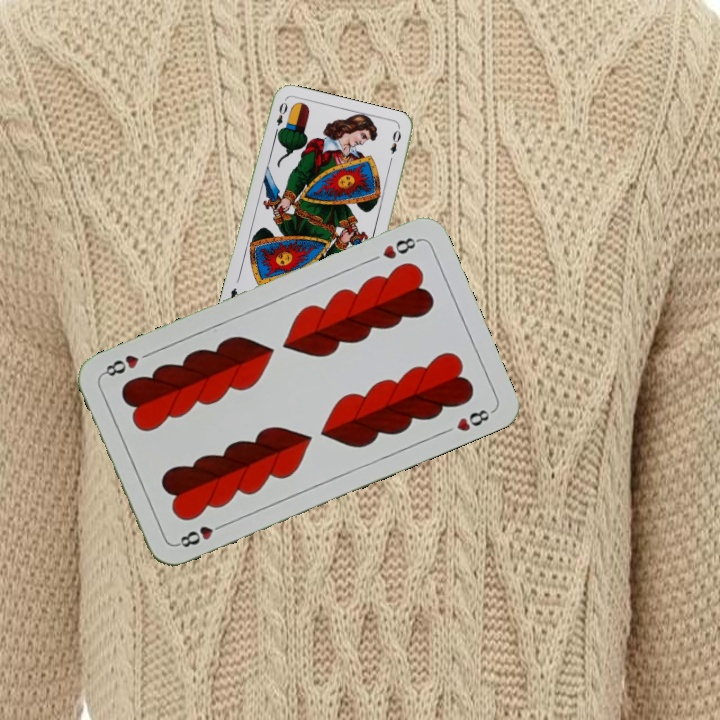EO: (271, 98, 290, 137)
H8: (172, 519, 228, 550), (378, 233, 423, 262)
